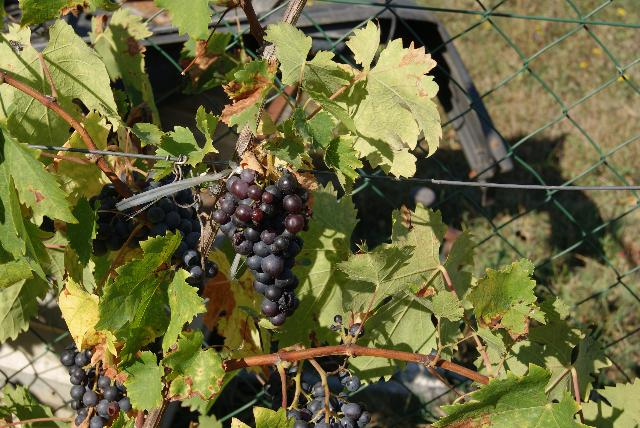grapes: (214, 170, 312, 326), (129, 190, 218, 295), (61, 346, 131, 428), (289, 371, 370, 428), (91, 185, 139, 258)
